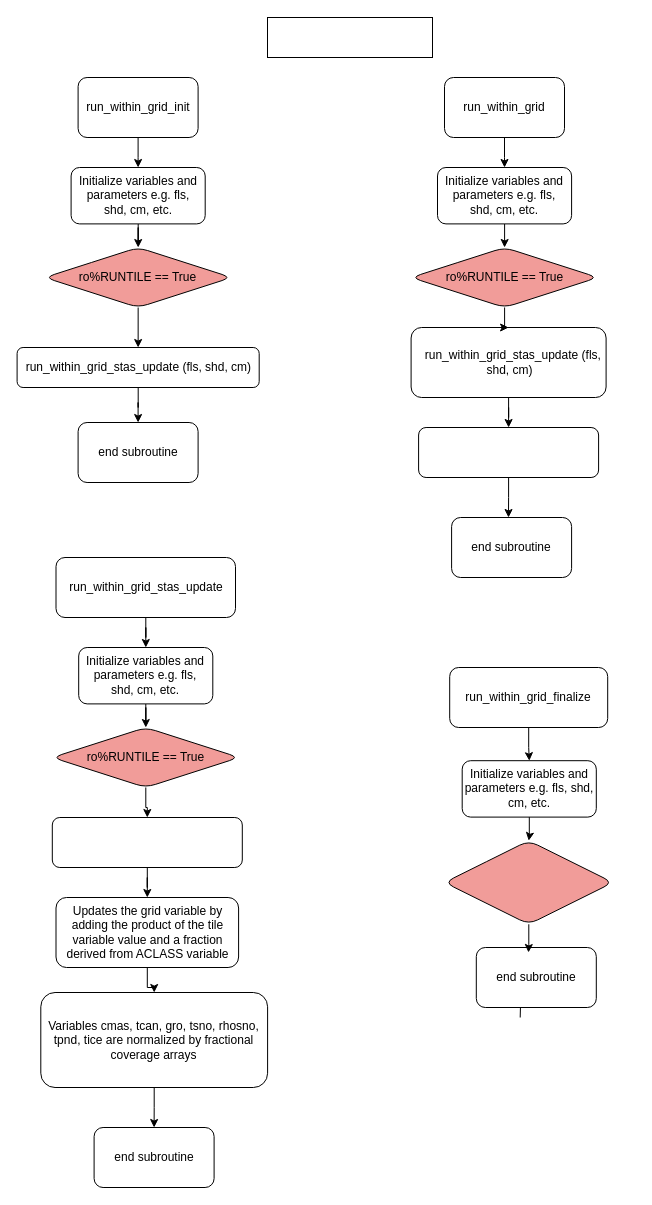
Image size: 652x1205. Some labels were removed from this diagram. Here are the shapes that lost their labels. From the top down, the centre of each, then its label:
(x=349, y=37): sa_mesh_run_within_grid.f90
(x=508, y=452): Call process: bflm_within_grid (fls, shd, cm)
(x=146, y=842): Initializes grid variables to 0.0
(x=528, y=882): head node and ro%RUNGRID == True
